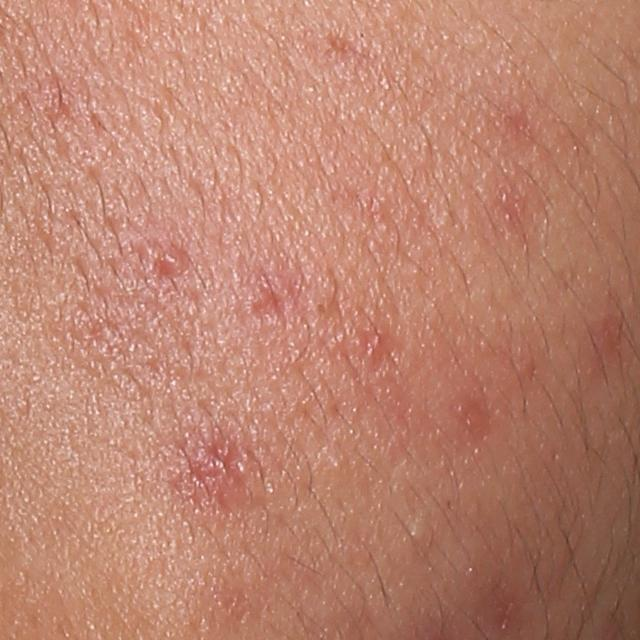atrophic_scar: (242, 287, 299, 327)
comedo: (404, 519, 429, 546), (310, 296, 332, 318)
papule: (147, 234, 193, 282)
